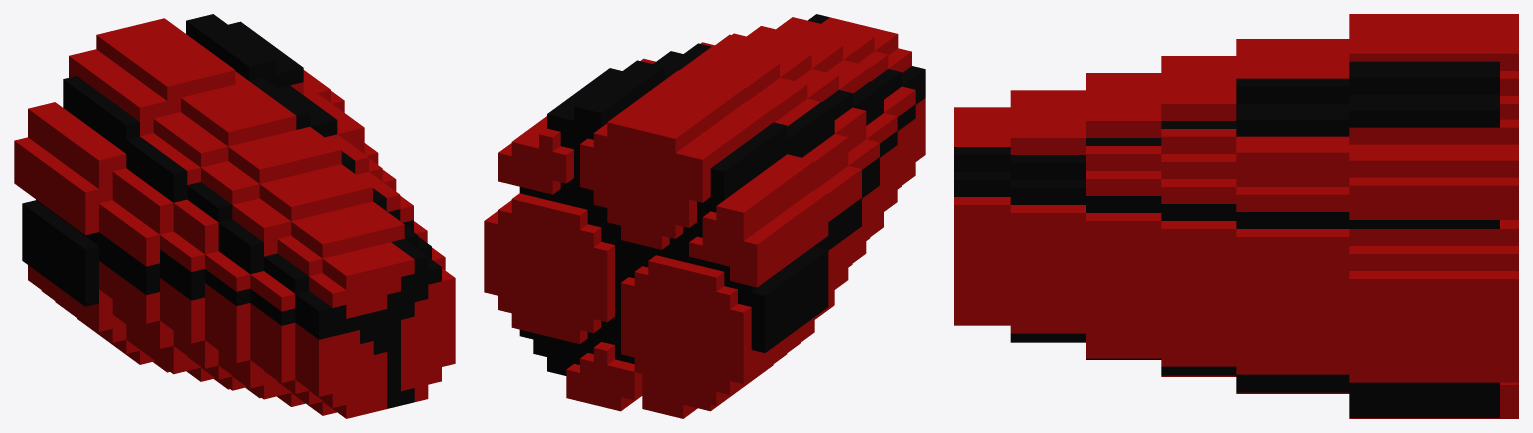
The model's file is lavaPile.fbx.
3 views of the same model, side by side, from view 1: azimuth 30°, elevation 25°; view 2: azimuth 150°, elevation 25°; view 3: azimuth 270°, elevation 25° (orthographic). The views are drawn at different scales.
Visible parts, largest first — view 1: lavaPile; view 2: lavaPile; view 3: lavaPile.
Boxes of the visible parts, bbox=[...] form: lavaPile: bbox=[14, 14, 455, 418]; lavaPile: bbox=[484, 14, 925, 418]; lavaPile: bbox=[954, 14, 1518, 418].
Bounding box in the file's own units: 2.8 × 2.8 × 4.2.
1 material, 1 textured.
